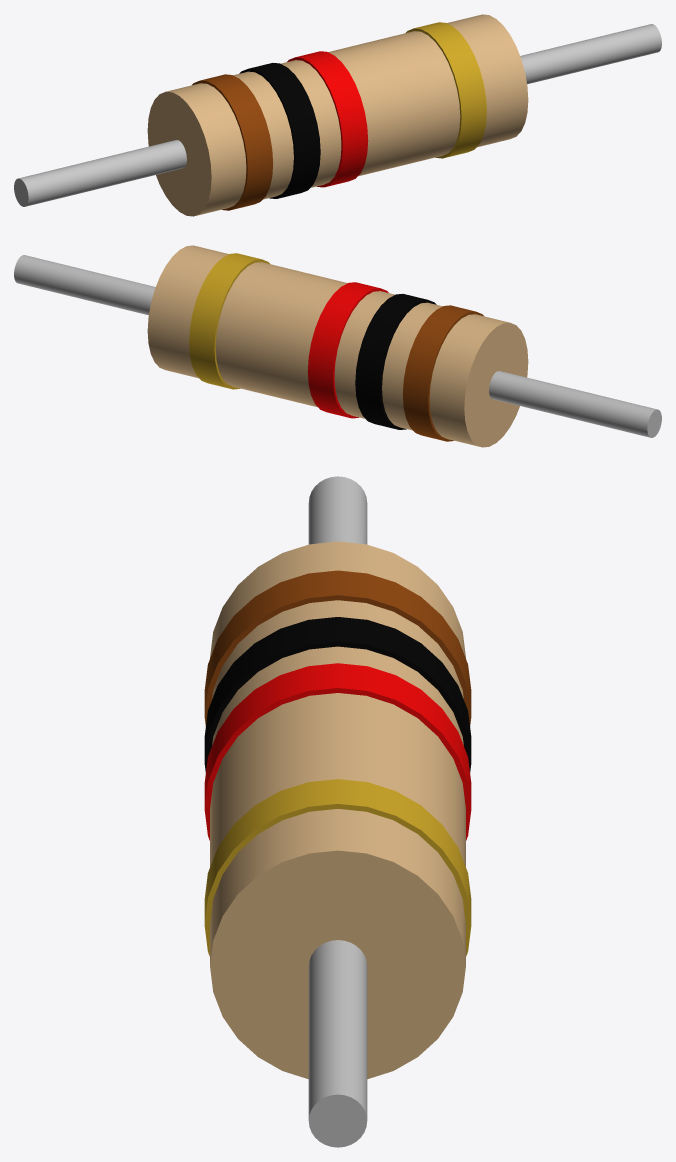
File: resistor.glb
3 views of the same model, one above another, from view 1: azimuth 30°, elevation 25°; view 2: azimuth 150°, elevation 25°; view 3: azimuth 270°, elevation 25° (orthographic). The views are drawn at different scales.
Bounding box in the file's own units: 0.4 × 0.073 × 0.073.
